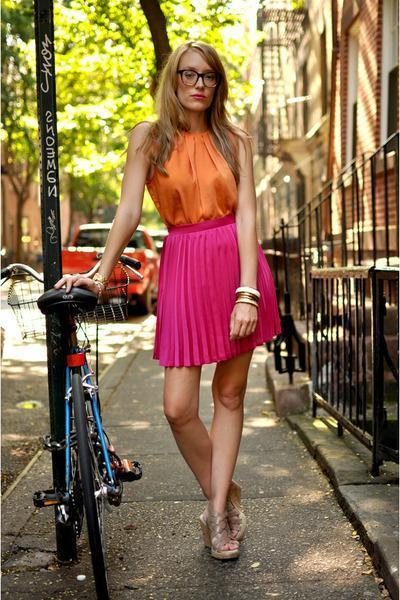short sleeve shirt: (139, 122, 247, 230)
skirt: (141, 214, 283, 370)
